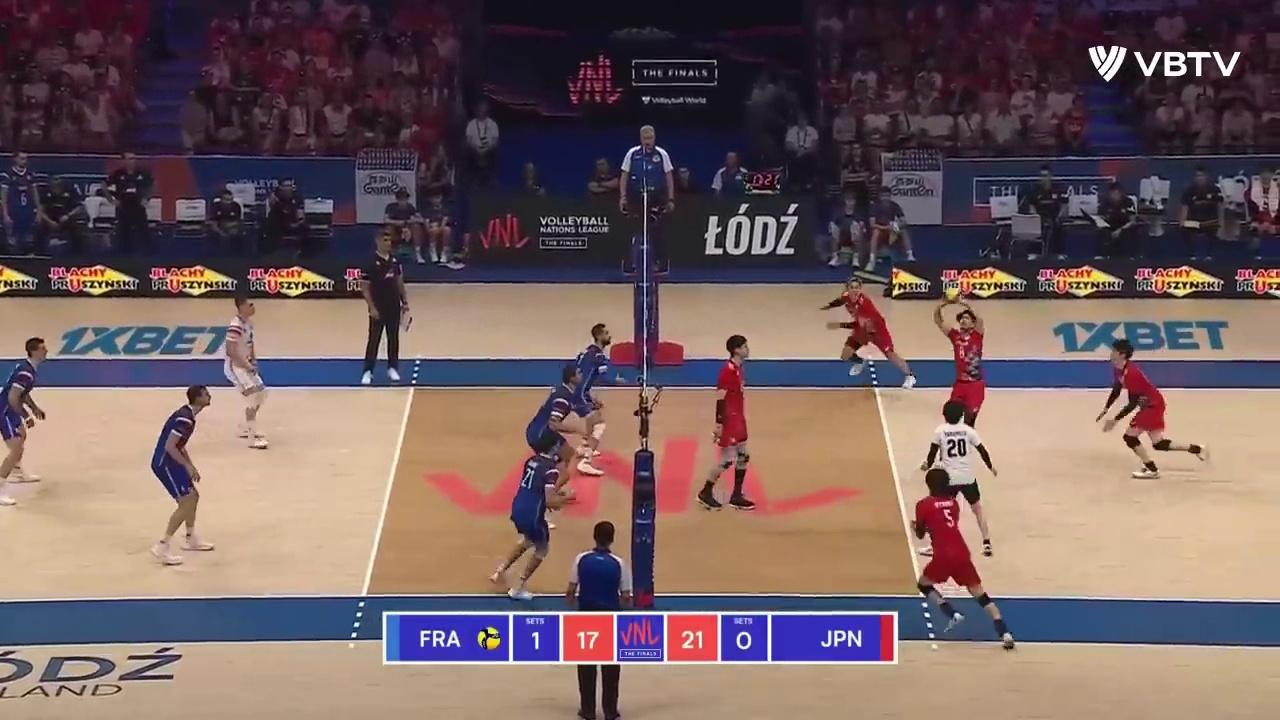ball: (944, 287, 961, 302)
